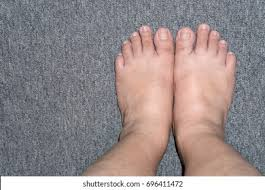feet: (173, 16, 240, 151), (114, 23, 174, 147)
